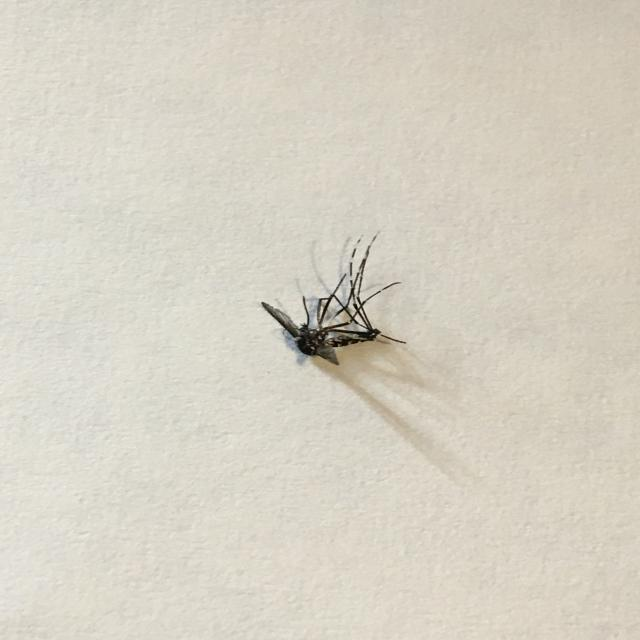albopictus: (252, 226, 412, 364)
